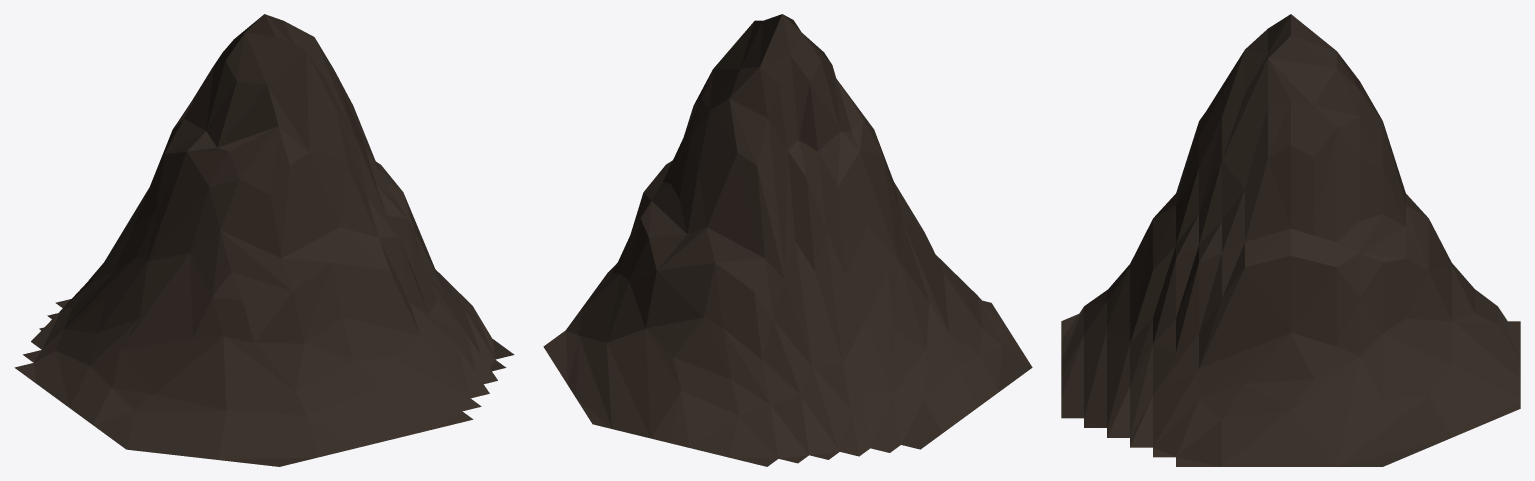
File: Mountain_5.fbx
3 views of the same model, side by side, from view 1: azimuth 30°, elevation 25°; view 2: azimuth 150°, elevation 25°; view 3: azimuth 270°, elevation 25° (orthographic). The views are drawn at different scales.
Visible parts, largest first — view 1: Mountain05; view 2: Mountain05; view 3: Mountain05.
Part boxes in pixels (x1,y1,x2,y2): Mountain05: (14,14,514,466); Mountain05: (543,14,1032,466); Mountain05: (1061,14,1520,466).
Bounding box in the file's own units: 7012 × 5990 × 7012.
1 material, 1 textured.
